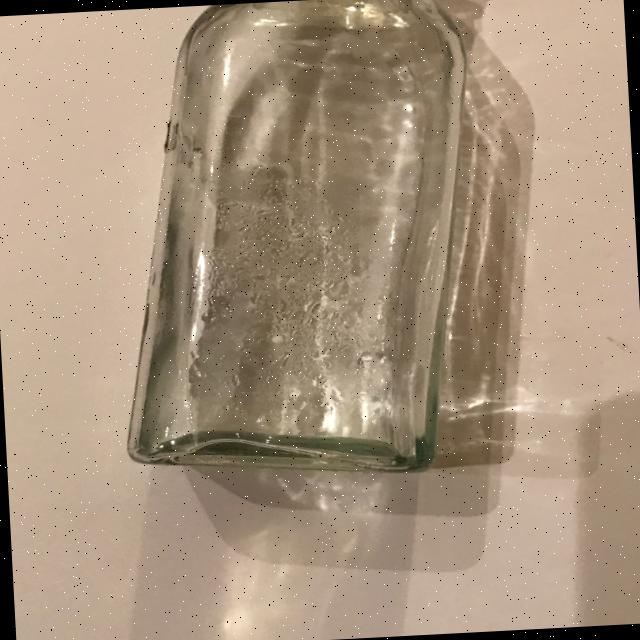glass: (103, 0, 551, 488)
